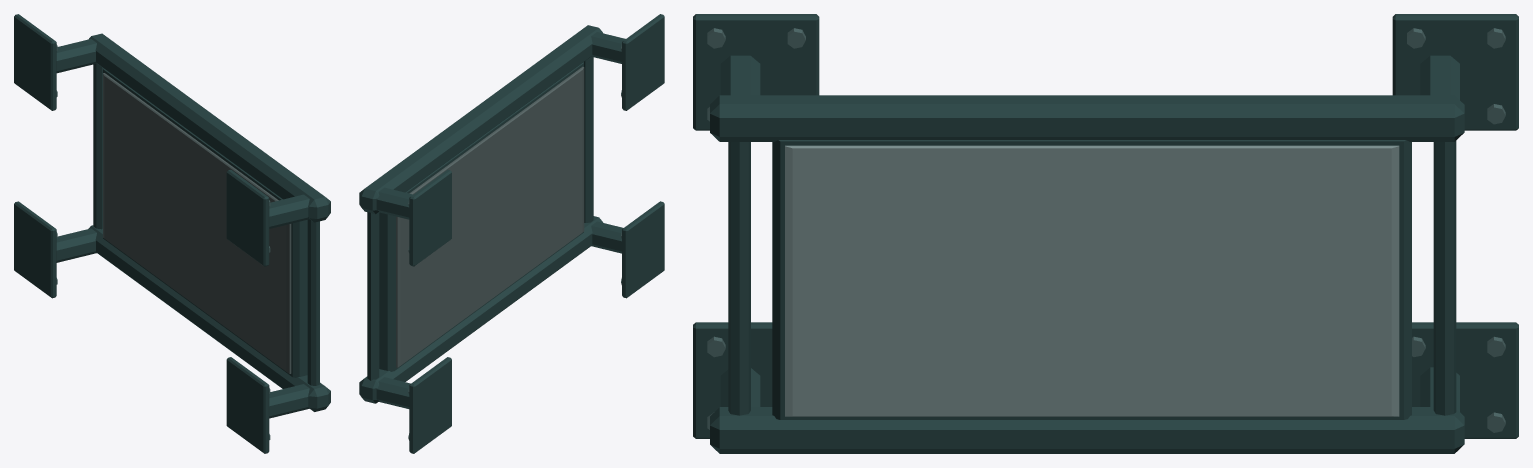
The model's file is signboard horizontal to wall.fbx.
3 renders of one model, left to right at view 1: azimuth 30°, elevation 25°; view 2: azimuth 150°, elevation 25°; view 3: azimuth 270°, elevation 25°, orthographic. The views are drawn at different scales.
Visible parts, largest first — view 1: polySurface71; view 2: polySurface71; view 3: polySurface71.
Boxes of the visible parts, box(x1,y1,x2,y2) form: polySurface71: box(14, 14, 330, 453); polySurface71: box(359, 14, 664, 453); polySurface71: box(693, 14, 1518, 453).
Bounding box in the file's own units: 0.1685 × 0.5516 × 0.9771.
